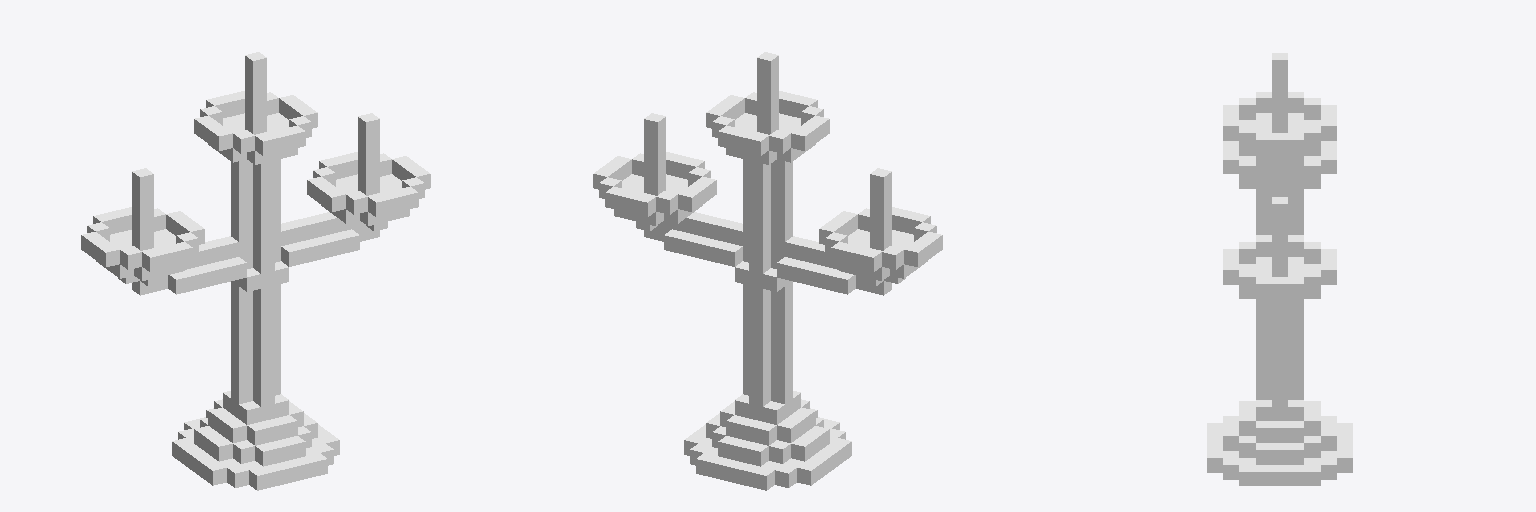
File: Chandellier.obj
3 views of the same model, side by side, from view 1: azimuth 30°, elevation 25°; view 2: azimuth 150°, elevation 25°; view 3: azimuth 270°, elevation 25° (orthographic).
Parts seen in each view (by area): view 1: Chandellier; view 2: Chandellier; view 3: Chandellier.
Part boxes in pixels (x1,y1,x2,y2): Chandellier: (81, 52, 430, 490); Chandellier: (593, 52, 942, 490); Chandellier: (1207, 53, 1352, 485).
Bounding box in the file's own units: 23 × 27 × 9.